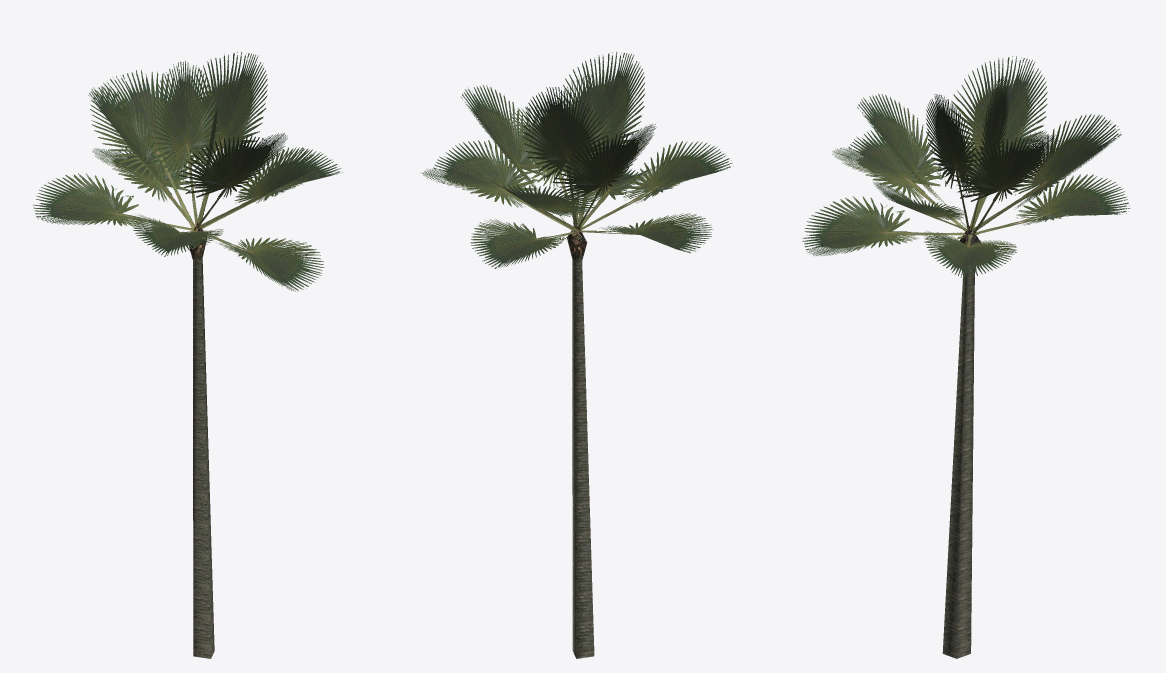
File: ever_palmtree_med_l1.fbx
3 renders of one model, left to right at view 1: azimuth 30°, elevation 25°; view 2: azimuth 150°, elevation 25°; view 3: azimuth 270°, elevation 25°, orthographic. The views are drawn at different scales.
Visible parts, largest first — view 1: mesh_node; view 2: mesh_node; view 3: mesh_node.
Boxes of the visible parts, x1,y1,x2,y2 form: mesh_node: (33, 52, 342, 658); mesh_node: (420, 52, 732, 658); mesh_node: (802, 56, 1129, 658).
Bounding box in the file's own units: 10.49 × 18.77 × 10.49.
Materials: 3 (3 with a texture image).
